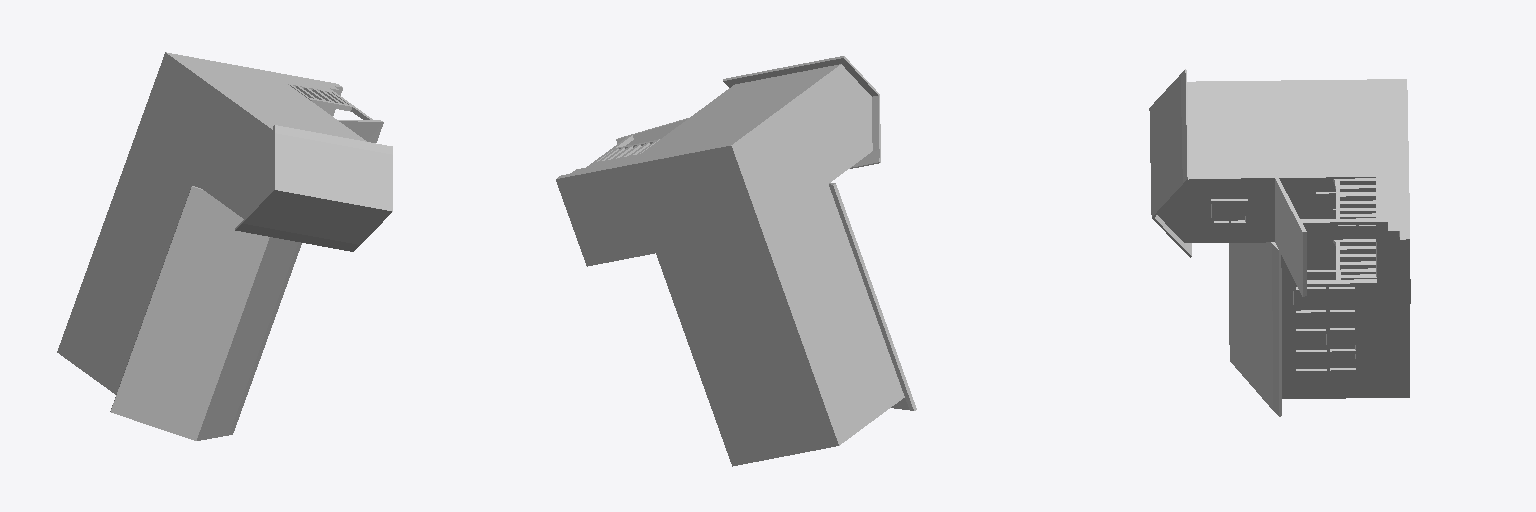
Rendered from house2.obj.
3 renders of one model, left to right at view 1: azimuth 30°, elevation 25°; view 2: azimuth 150°, elevation 25°; view 3: azimuth 270°, elevation 25°, orthographic.
Visible parts, largest first — view 1: pCube1; view 2: pCube1; view 3: pCube1.
Part boxes in pixels (x1,y1,x2,y2): pCube1: (57,52,392,440); pCube1: (556,56,916,466); pCube1: (1149,69,1410,416).
Size of the model in its own units: 1.42 by 1.59 by 1.09.